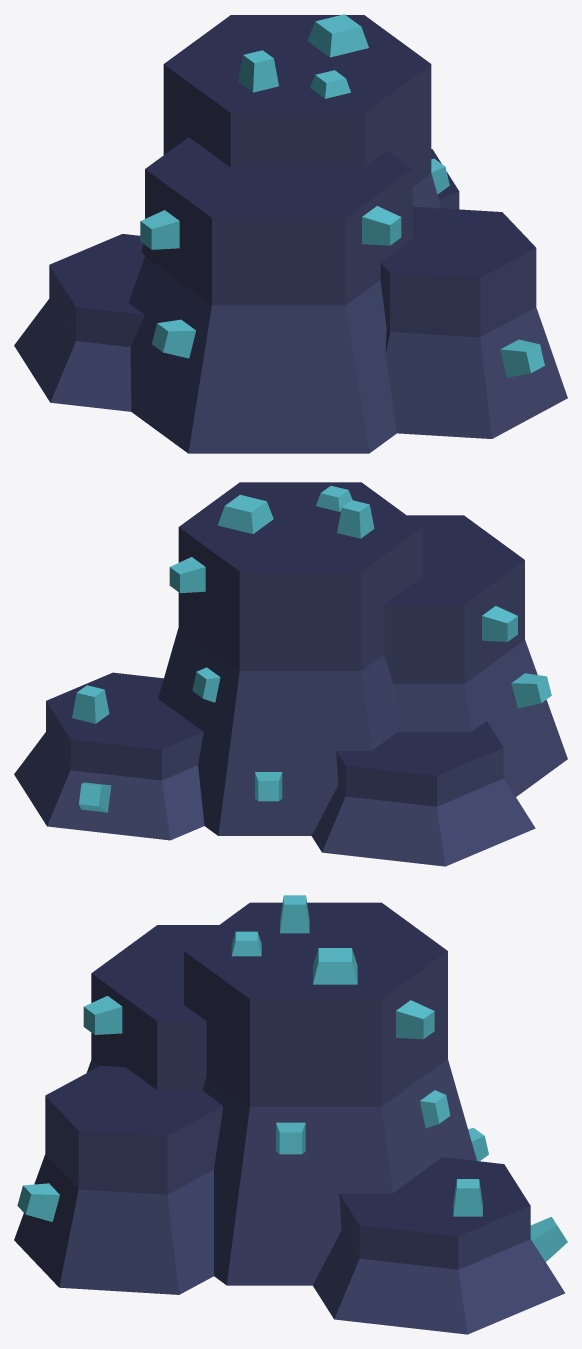
File: crystal-cluster.t1.c1c0a52c.glb
3 renders of one model, top to bottom at view 1: azimuth 30°, elevation 25°; view 2: azimuth 150°, elevation 25°; view 3: azimuth 270°, elevation 25°, orthographic. The views are drawn at different scales.
Size of the model in its own units: 1.31 by 0.7676 by 1.3.
